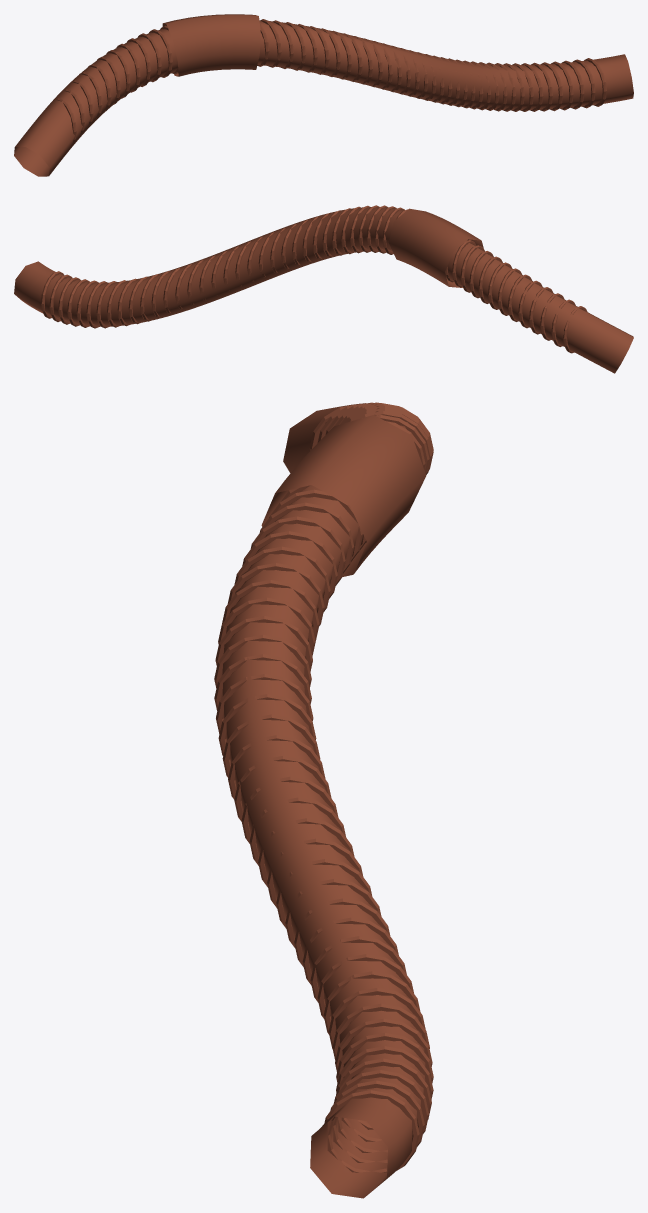
Rendered from worm.glb.
The picture shows the model from 3 angles, top to bottom: view 1: azimuth 30°, elevation 25°; view 2: azimuth 150°, elevation 25°; view 3: azimuth 270°, elevation 25°; orthographic projection. The views are drawn at different scales.
Parts seen in each view (by area): view 1: flexible worm, clitellum, Torus.051, Torus.009, Torus.049, Torus.053, Torus.010, Torus.048, Torus.007, Torus.050, Torus.008, Torus.052 (+6 smaller); view 2: flexible worm, clitellum, Torus.008, Torus.009, Torus.051, Torus.006; view 3: flexible worm, clitellum, Torus.053, Torus.052, Torus.051, Torus.050.
Boxes of the visible parts, x1,y1,x2,y2 form: flexible worm: (14,20,633,176); clitellum: (162,14,260,76); Torus.051: (562,60,584,109); Torus.009: (137,33,161,82); Torus.049: (541,62,562,111); Torus.053: (584,58,606,106); Torus.010: (149,29,172,77); Torus.048: (531,62,552,111); Torus.007: (116,43,140,92); Torus.050: (551,61,573,110); Torus.008: (127,38,150,86); Torus.052: (573,59,595,108); flexible worm: (14,207,633,373); clitellum: (388,208,483,287); Torus.008: (478,256,502,303); Torus.009: (469,251,493,298); Torus.051: (58,277,80,324); Torus.006: (497,268,521,315); flexible worm: (222,403,425,1198); clitellum: (261,415,426,576); Torus.053: (324,1090,419,1172); Torus.052: (330,1080,424,1162); Torus.051: (333,1070,428,1152); Torus.050: (336,1058,431,1141).
Size of the model in its own units: 2.06 by 0.5958 by 0.3237.
